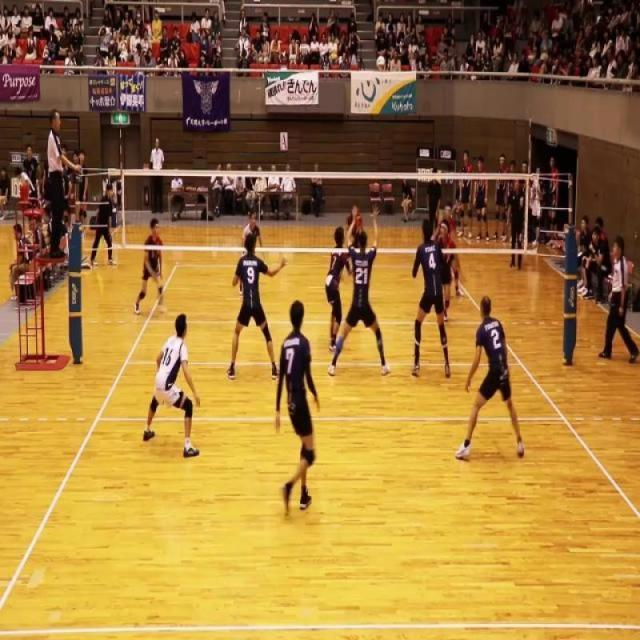volleyball: (375, 55, 386, 72)
